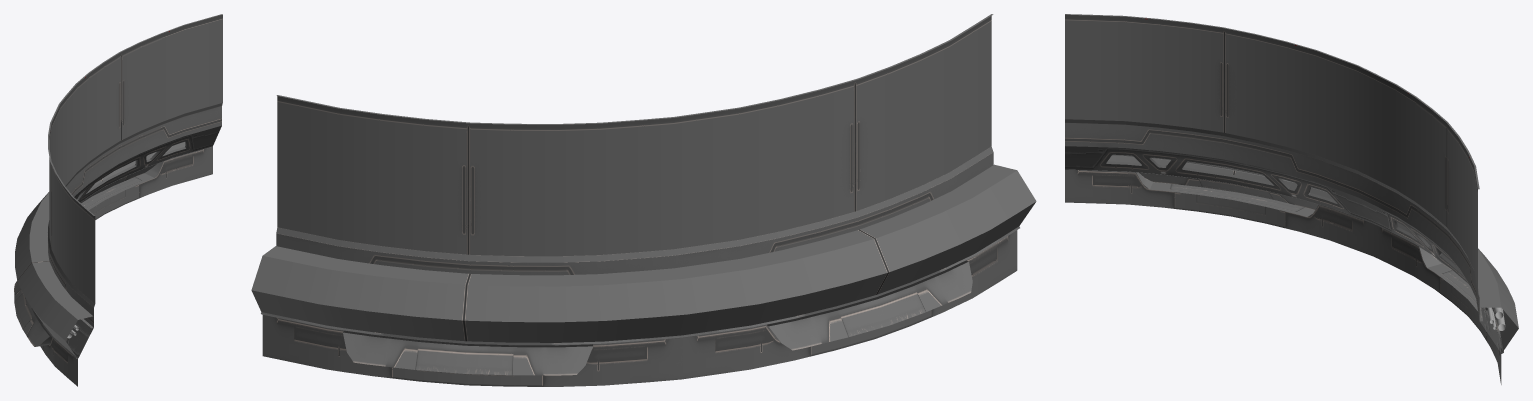
The model's file is S_TopCablesCornerRoundInner.gltf.
3 renders of one model, left to right at view 1: azimuth 30°, elevation 25°; view 2: azimuth 150°, elevation 25°; view 3: azimuth 270°, elevation 25°, orthographic. The views are drawn at different scales.
Visible parts, largest first — view 1: Plane_089-col; view 2: Plane_089-col; view 3: Plane_089-col.
Boxes of the visible parts, x1,y1,x2,y2 form: Plane_089-col: (14, 14, 222, 386); Plane_089-col: (251, 14, 1036, 386); Plane_089-col: (1065, 14, 1518, 384).
Size of the model in its own units: 4.16 by 2 by 4.16.
4 materials, 4 textured.
